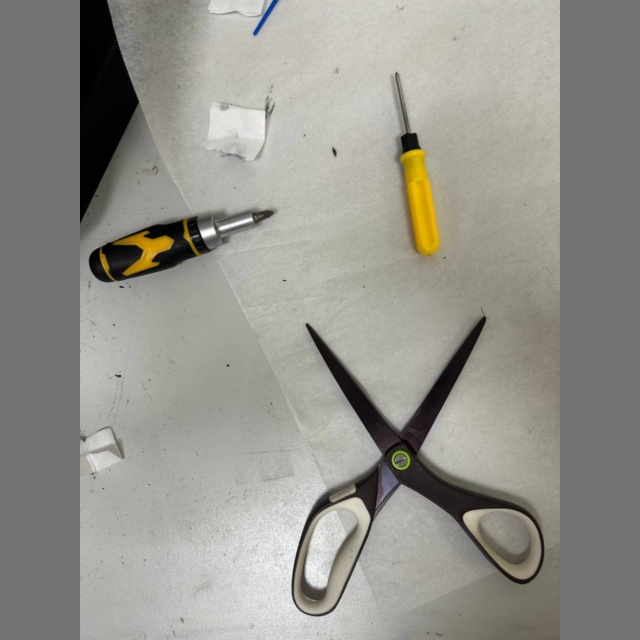scissor: (292, 316, 544, 616)
screwdriver: (89, 210, 273, 282), (395, 72, 440, 255)
